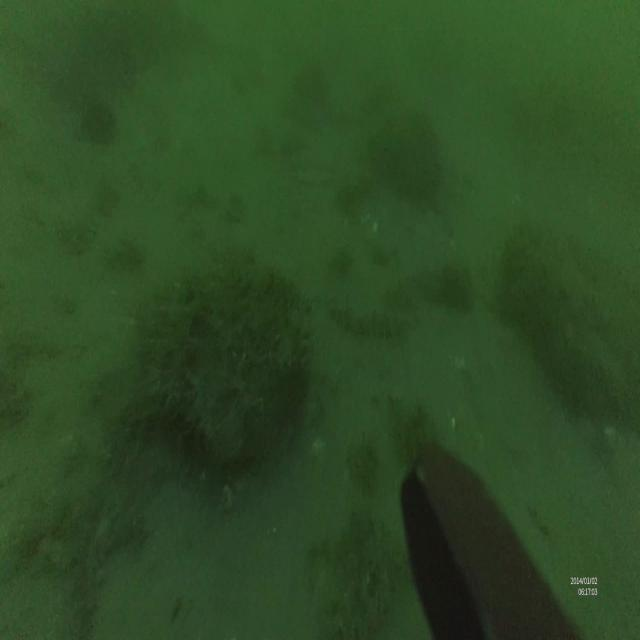holothurian: (382, 265, 472, 308), (324, 294, 418, 335)
